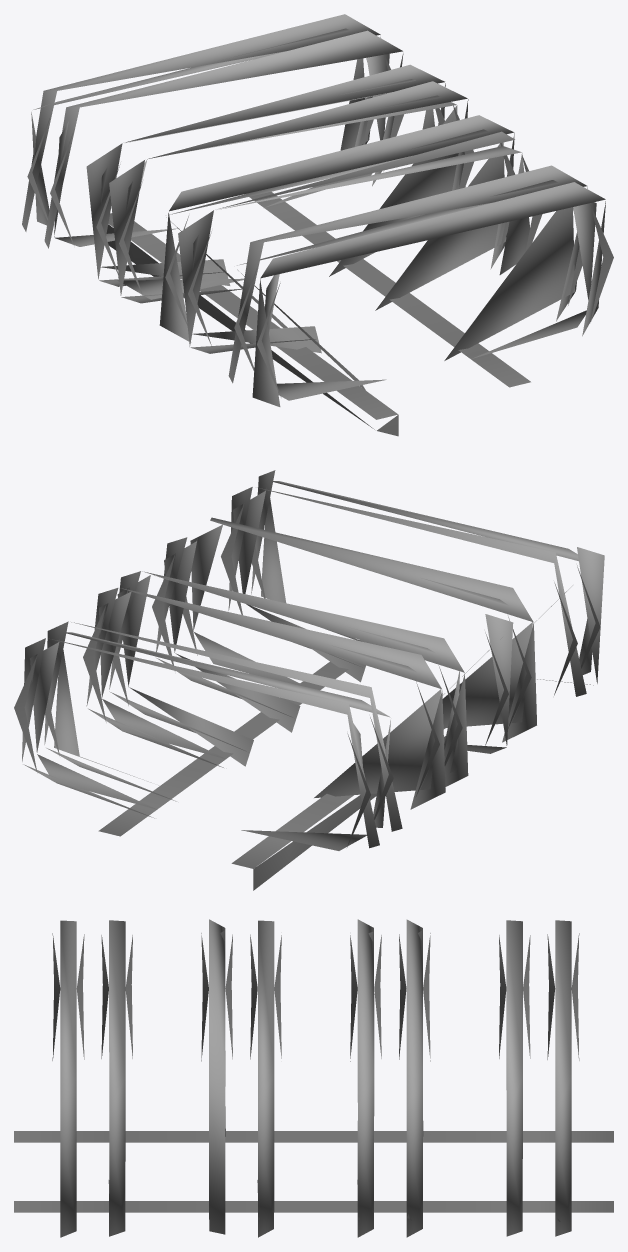
The model's file is bikerack.glb.
The picture shows the model from 3 angles, top to bottom: view 1: azimuth 30°, elevation 25°; view 2: azimuth 150°, elevation 25°; view 3: azimuth 270°, elevation 25°; orthographic projection. The views are drawn at different scales.
Parts seen in each view (by area): view 1: bike_rack; view 2: bike_rack; view 3: bike_rack.
Boxes of the visible parts, bbox=[...] form: bike_rack: bbox=[22, 14, 613, 436]; bike_rack: bbox=[14, 470, 604, 890]; bike_rack: bbox=[14, 919, 613, 1237].
Bounding box in the file's own units: 1.76 × 0.8679 × 2.38.
Materials: 1 (1 with a texture image).
